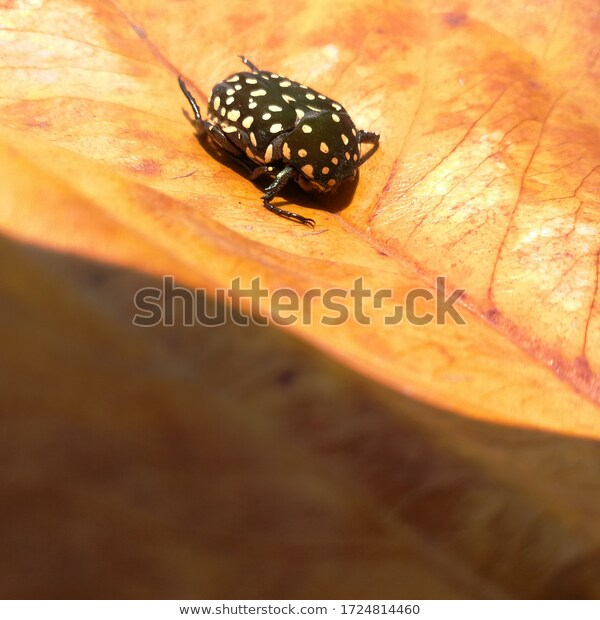Protaetia_niveoguttata: (171, 51, 381, 229)
